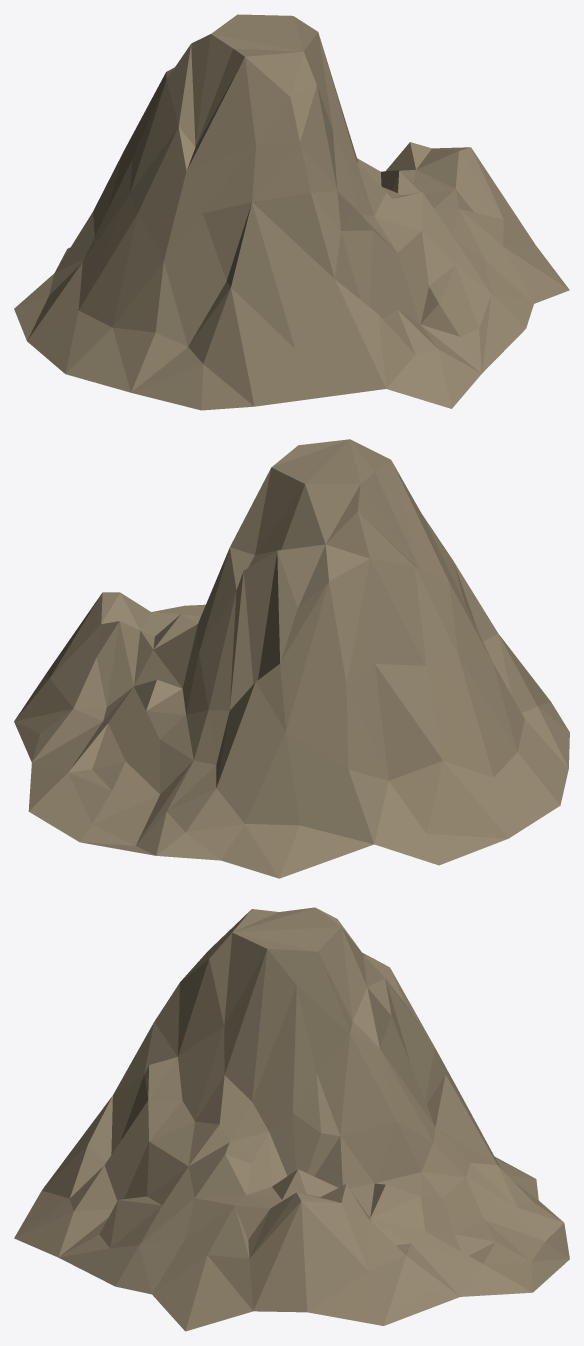
Rendered from Mountain_5.fbx.
3 renders of one model, top to bottom at view 1: azimuth 30°, elevation 25°; view 2: azimuth 150°, elevation 25°; view 3: azimuth 270°, elevation 25°, orthographic. The views are drawn at different scales.
Parts seen in each view (by area): view 1: Mountain_5; view 2: Mountain_5; view 3: Mountain_5.
Part boxes in pixels (x1,y1,x2,y2): Mountain_5: (14, 14, 569, 410); Mountain_5: (14, 439, 569, 878); Mountain_5: (14, 907, 569, 1331).
Size of the model in its own units: 694 by 405 by 708.
